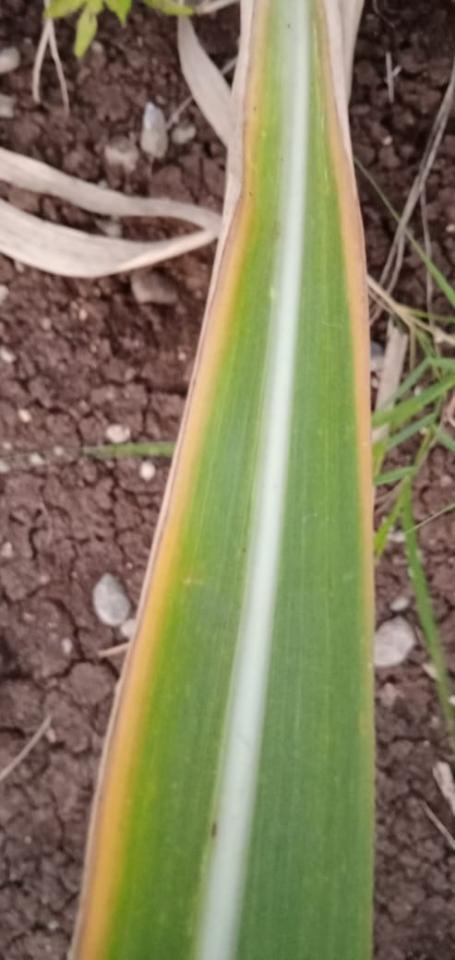Yellow: (70, 0, 273, 959), (313, 0, 373, 788)
